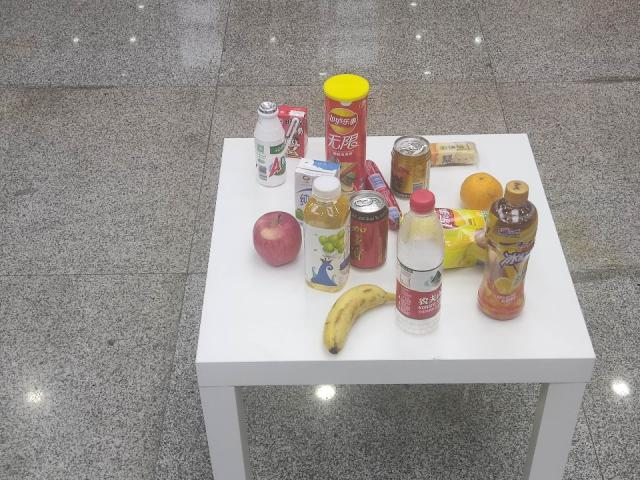Canned_drinks: (349, 188, 388, 270), (391, 134, 431, 198)
bottle: (377, 184, 452, 342)
cylinder: (322, 69, 372, 194)
drink_box: (293, 156, 343, 228), (274, 102, 308, 163)
